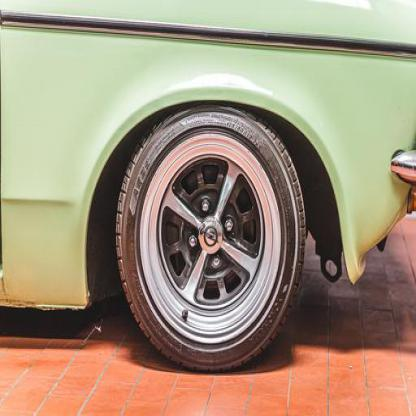Tire: (115, 100, 306, 374)
